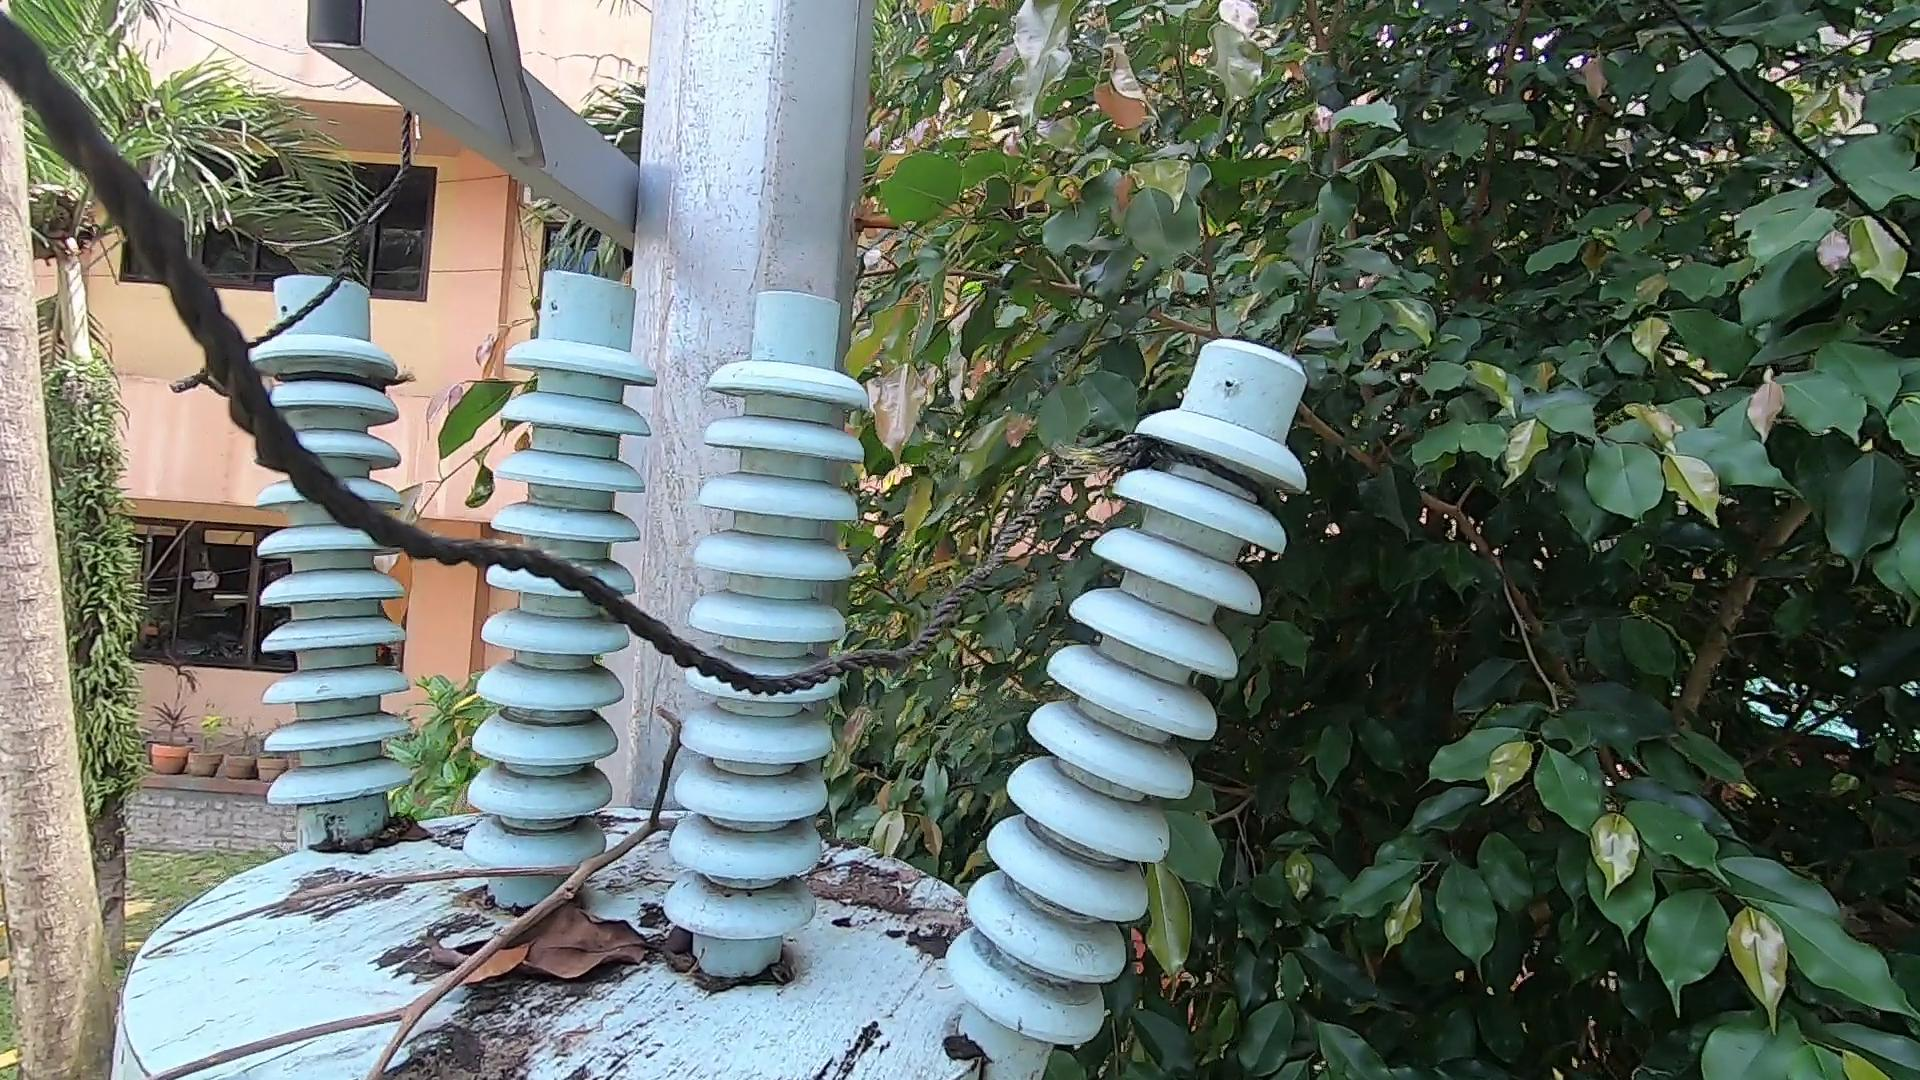leaf: (413, 910, 670, 980), (818, 851, 931, 928), (313, 808, 436, 857)
tree branch: (111, 782, 688, 1080)
